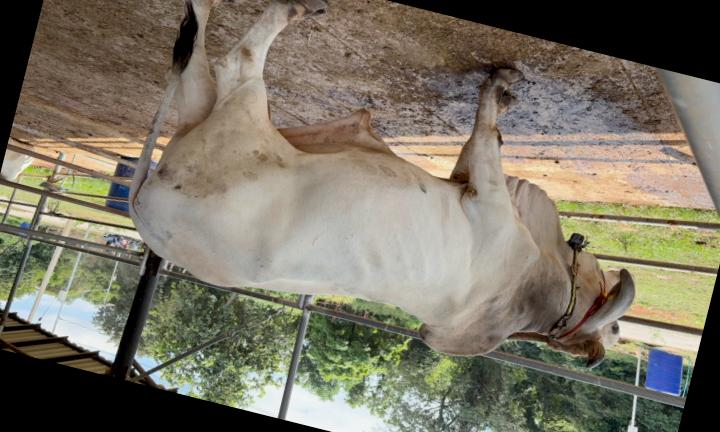Brahman: (128, 0, 634, 368)
